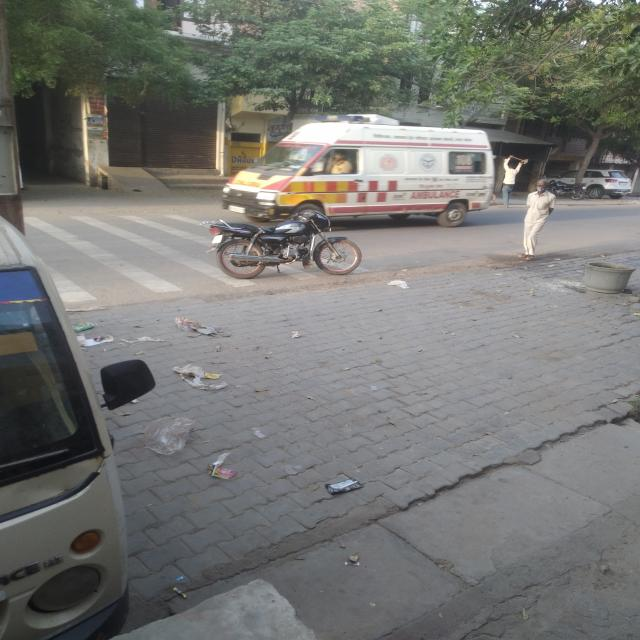Bike: (193, 212, 366, 280)
